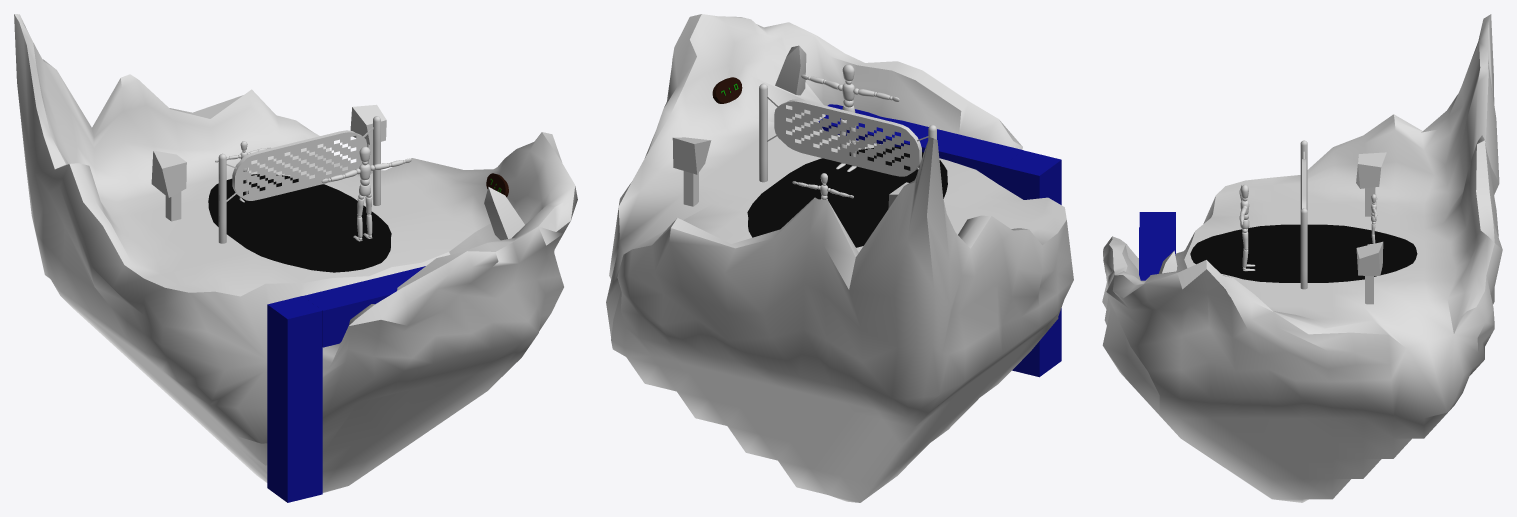
Rendered from Overworld.fbx.
3 views of the same model, side by side, from view 1: azimuth 30°, elevation 25°; view 2: azimuth 150°, elevation 25°; view 3: azimuth 270°, elevation 25° (orthographic). The views are drawn at different scales.
Parts seen in each view (by area): view 1: Ground, Field, Water, Net, Water_2, Tree_1, Rock, Tree_1_2, Left_Net_Stand, Right_Net_Stand; view 2: Ground, Field, Net, Water, Water_2, Tree_1_2, Rock, Right_Net_Stand, Scoreboard, Tree_2; view 3: Ground, Field, Water_2, Tree_1, Tree_1_2, Right_Net_Stand, Water.
Boxes of the visible parts, x1,y1,x2,y2 form: Ground: [14, 14, 577, 492]; Field: [208, 174, 391, 272]; Water: [267, 296, 322, 502]; Net: [226, 127, 373, 201]; Water_2: [303, 266, 425, 347]; Tree_1: [151, 150, 186, 197]; Rock: [484, 187, 524, 240]; Tree_1_2: [350, 104, 386, 144]; Left_Net_Stand: [218, 153, 226, 243]; Right_Net_Stand: [373, 116, 380, 205]; Ground: [606, 14, 1073, 502]; Field: [747, 146, 947, 247]; Net: [767, 96, 928, 176]; Water: [1001, 150, 1061, 377]; Water_2: [818, 104, 1022, 185]; Tree_1_2: [672, 137, 711, 174]; Rock: [775, 45, 806, 95]; Right_Net_Stand: [759, 83, 767, 182]; Scoreboard: [712, 77, 742, 103]; Tree_2: [683, 171, 698, 206]; Ground: [1102, 14, 1502, 502]; Field: [1190, 224, 1417, 282]; Water_2: [1139, 227, 1175, 280]; Tree_1: [1356, 152, 1386, 188]; Tree_1_2: [1356, 241, 1383, 275]; Right_Net_Stand: [1300, 208, 1307, 289]; Water: [1139, 212, 1175, 253].
Size of the model in its own units: 11.26 by 12.33 by 10.97.
